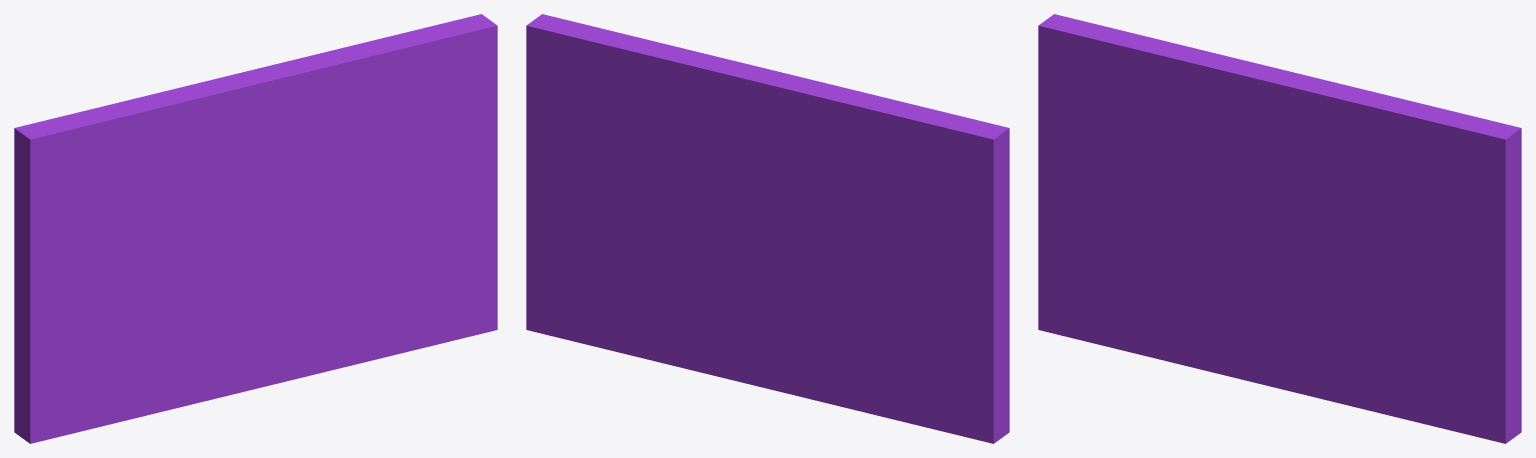
File: Barrier_77_chunks.fbx
3 views of the same model, side by side, from view 1: azimuth 30°, elevation 25°; view 2: azimuth 150°, elevation 25°; view 3: azimuth 330°, elevation 25° (orthographic).
Parts seen in each view (by area): view 1: Barrier_77_0, Barrier_77_2, Barrier_77_6, Barrier_77_4, Barrier_77_1, Barrier_77_3, Barrier_77_5; view 2: Barrier_77_0, Barrier_77_2, Barrier_77_5, Barrier_77_6, Barrier_77_4, Barrier_77_3; view 3: Barrier_77_0, Barrier_77_2, Barrier_77_6, Barrier_77_4, Barrier_77_1, Barrier_77_5, Barrier_77_3.
Part boxes in pixels (bbox=[...]): Barrier_77_0: bbox=[14, 88, 248, 443]; Barrier_77_2: bbox=[179, 14, 497, 224]; Barrier_77_6: bbox=[168, 227, 331, 410]; Barrier_77_4: bbox=[269, 276, 481, 385]; Barrier_77_1: bbox=[166, 89, 293, 254]; Barrier_77_3: bbox=[291, 195, 497, 282]; Barrier_77_5: bbox=[383, 212, 497, 333]; Barrier_77_0: bbox=[759, 95, 1009, 443]; Barrier_77_2: bbox=[526, 14, 833, 239]; Barrier_77_5: bbox=[526, 206, 692, 354]; Barrier_77_6: bbox=[686, 232, 846, 407]; Barrier_77_4: bbox=[628, 317, 730, 379]; Barrier_77_3: bbox=[597, 216, 709, 265]; Barrier_77_0: bbox=[1038, 14, 1257, 363]; Barrier_77_2: bbox=[1214, 54, 1521, 309]; Barrier_77_6: bbox=[1176, 240, 1339, 387]; Barrier_77_4: bbox=[1277, 316, 1489, 439]; Barrier_77_1: bbox=[1174, 58, 1301, 247]; Barrier_77_5: bbox=[1391, 308, 1521, 443]; Barrier_77_3: bbox=[1299, 239, 1511, 333].
Bounding box in the file's own units: 462 × 288 × 27.2.
